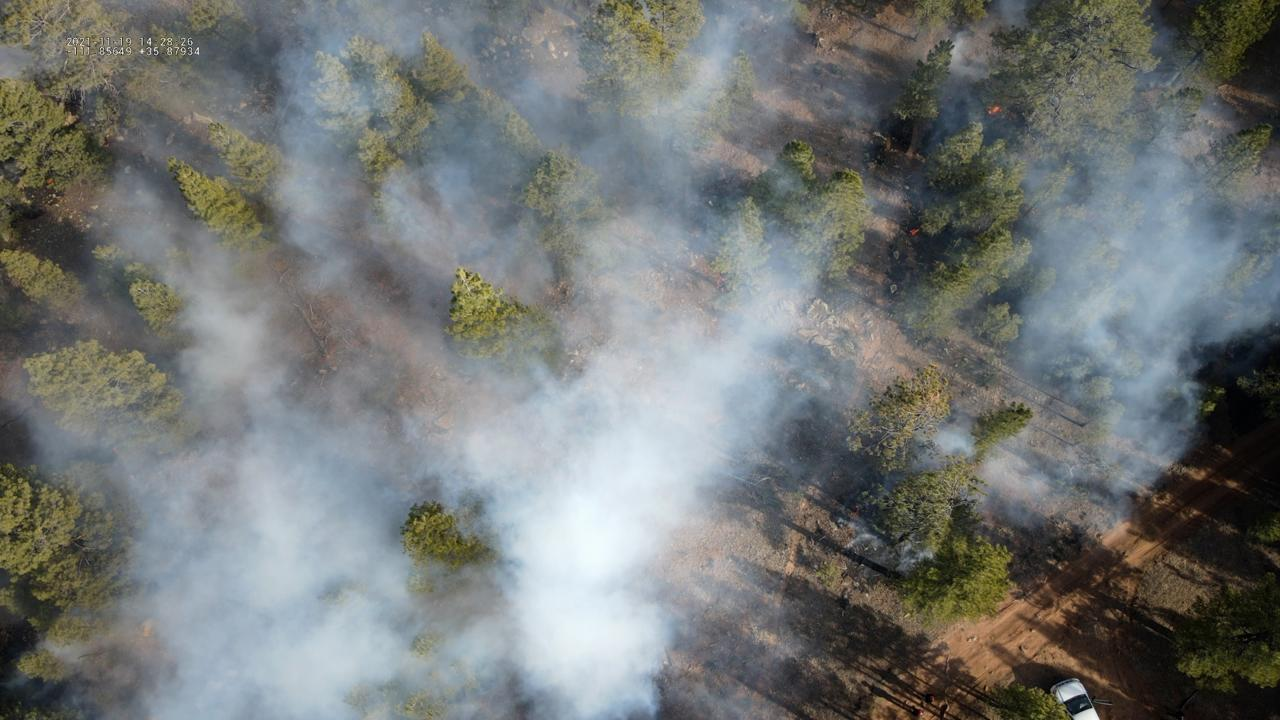fire: (984, 104, 1003, 117), (909, 226, 921, 237), (45, 175, 55, 185)
smoke: (0, 0, 1280, 720)
